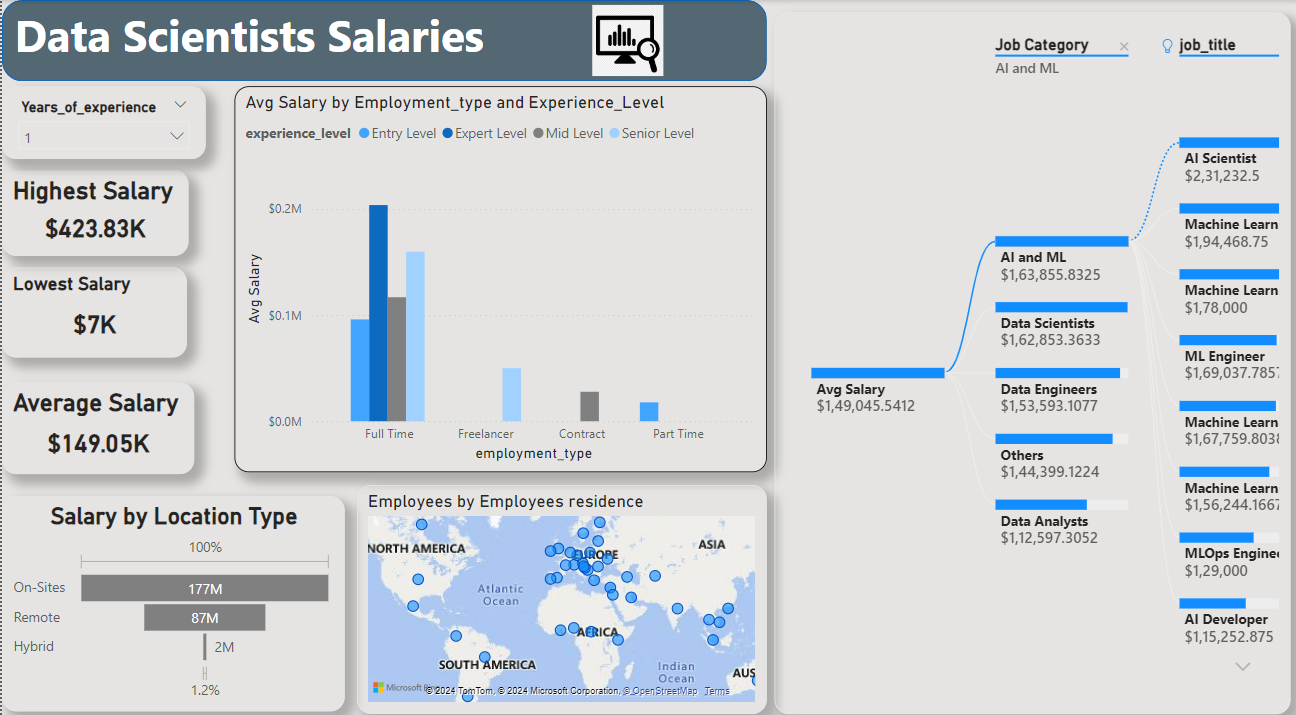

The page's visual inventory and layout, read from the dashboard file:
{"tool":"powerbi","page":{"name":"Data science sakary","canvas":[1280,720],"ordinal":0},"visuals":[{"type":"shape","box":[0,0,748.4,79.5],"z":0},{"type":"textbox","box":[7.3,0,517.3,79.5],"z":1000},{"type":"card","title":"Highest Salary","fields":{"Values":["ds_salaries.Max Salary"]},"box":[0,166.3,182.2,84.4],"z":2000},{"type":"slicer","fields":{"Values":["ds_salaries.Years_of_experience"]},"box":[0,84.4,199.3,70.9],"z":3000},{"type":"card","title":"Lowest Salary","fields":{"Values":["ds_salaries.Min Salary"]},"box":[0,261.7,181,88],"z":4000},{"type":"card","title":"Average Salary","fields":{"Values":["ds_salaries.Avg Salary"]},"box":[0,374.2,188.3,89.3],"z":5000},{"type":"funnel","title":"Salary  by Location Type","fields":{"Y":["Sum(ds_salaries.salary_in_usd)"],"Category":["ds_salaries.Location Type"]},"box":[0,485.5,335.1,210.3],"z":6000},{"type":"clusteredColumnChart","title":"Avg Salary by Employment_type and Experience_Level","fields":{"Y":["ds_salaries.Avg Salary"],"Category":["ds_salaries.employment_type"],"Series":["ds_salaries.experience_level"]},"box":[227.5,84.8,520.5,377.8],"z":7000},{"type":"map","title":"Employees by Employees residence","fields":{"Category":["ds_salaries.employee_residence"]},"box":[347,474.2,401,223.6],"z":8000},{"type":"decompositionTreeVisual","fields":{"ExplainBy":["ds_salaries.Job Category","ds_salaries.job_title"],"Analyze":["ds_salaries.Avg Salary"]},"box":[755.7,12.2,505,686],"z":9000},{"type":"image","box":[547.8,0,128.4,79.5],"z":10000}]}

Visuals, with their boxes in screenshot pixels (x1, y1, x2, y2), scaled from the page's 1280x720 canvas onto the 1296x715 screenshot:
shape: x1=0 y1=0 x2=758 y2=79
textbox: x1=7 y1=0 x2=531 y2=79
"Highest Salary" card: x1=0 y1=165 x2=184 y2=249
slicer - ds_salaries.Years_of_experience: x1=0 y1=84 x2=202 y2=154
"Lowest Salary" card: x1=0 y1=260 x2=183 y2=347
"Average Salary" card: x1=0 y1=372 x2=191 y2=460
"Salary  by Location Type" funnel: x1=0 y1=482 x2=339 y2=691
"Avg Salary by Employment_type and Experience_Level" clusteredColumnChart: x1=230 y1=84 x2=757 y2=459
"Employees by Employees residence" map: x1=351 y1=471 x2=757 y2=693
decompositionTreeVisual - ds_salaries.Job Category x ds_salaries.job_title: x1=765 y1=12 x2=1276 y2=693
image: x1=555 y1=0 x2=685 y2=79
